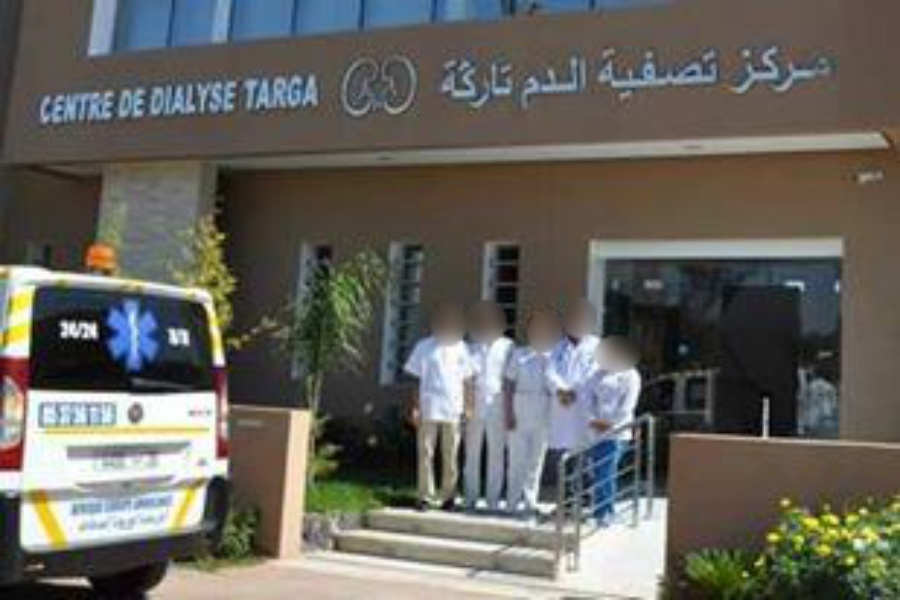text: (737, 38, 752, 100), (753, 38, 768, 100), (769, 38, 784, 100), (785, 38, 800, 100), (801, 38, 816, 100), (529, 53, 544, 114), (545, 53, 560, 114), (561, 53, 576, 114), (577, 53, 592, 114), (593, 44, 608, 105), (609, 44, 624, 105), (625, 44, 640, 105), (641, 44, 656, 105), (657, 44, 672, 105), (673, 44, 688, 105), (689, 44, 704, 105), (705, 44, 720, 105), (497, 56, 513, 111), (817, 38, 831, 100), (449, 56, 464, 111), (465, 56, 480, 111), (481, 56, 496, 111), (65, 484, 80, 534), (81, 484, 96, 534), (97, 484, 112, 534), (113, 484, 128, 534), (129, 484, 144, 534), (145, 484, 160, 534), (161, 484, 176, 534), (49, 85, 64, 129), (65, 85, 80, 129), (81, 85, 96, 129), (97, 85, 112, 129), (305, 73, 321, 114), (177, 484, 190, 534), (726, 38, 736, 100), (257, 73, 272, 114), (273, 73, 288, 114), (289, 73, 304, 114), (437, 56, 448, 111), (242, 73, 256, 114), (161, 82, 176, 117), (177, 82, 192, 117), (193, 82, 208, 117), (209, 82, 224, 117), (129, 85, 144, 120), (38, 85, 48, 129), (65, 315, 80, 341), (81, 315, 96, 341), (149, 82, 160, 117), (225, 82, 236, 117), (117, 85, 128, 120), (177, 321, 190, 350), (522, 53, 528, 114), (49, 402, 64, 426), (65, 402, 80, 426), (81, 402, 96, 426), (97, 402, 112, 426), (164, 321, 176, 350), (56, 315, 64, 341), (589, 44, 592, 105), (113, 85, 117, 129), (41, 402, 48, 426), (113, 402, 120, 426), (145, 85, 149, 120), (721, 44, 723, 105), (97, 315, 100, 341)
